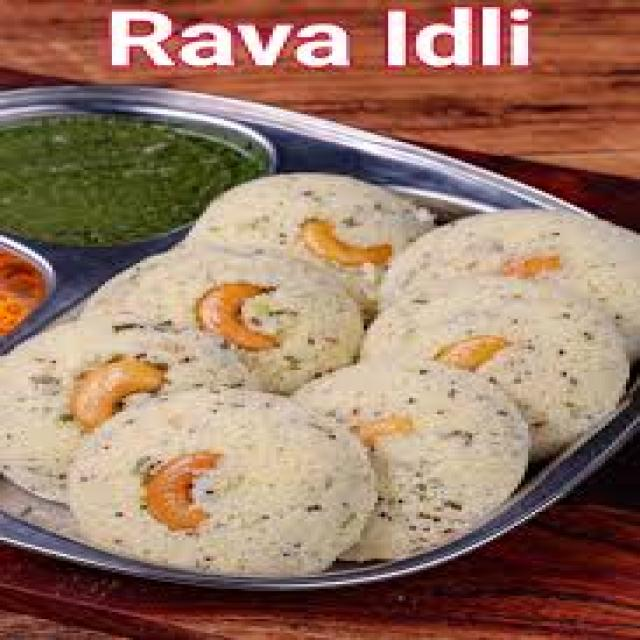IDLI: (67, 382, 369, 578), (359, 276, 629, 454), (3, 314, 252, 507), (293, 360, 533, 556), (377, 206, 637, 362), (79, 251, 363, 391), (189, 174, 436, 313)
